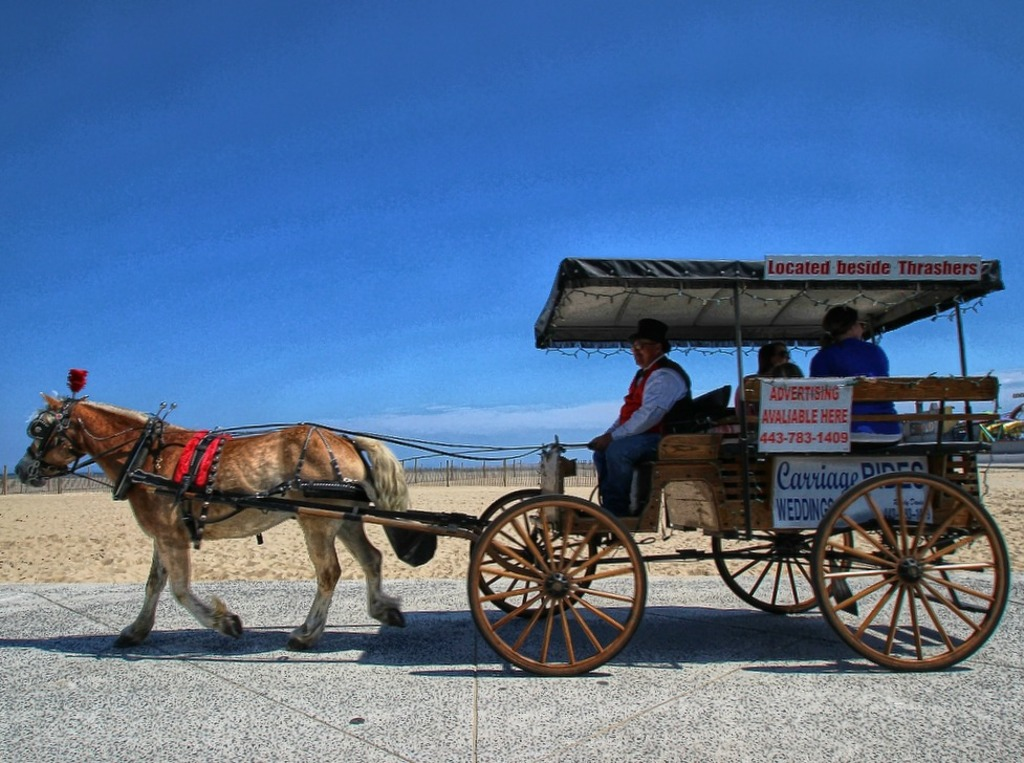Person: (808, 304, 898, 433), (754, 336, 799, 376)
